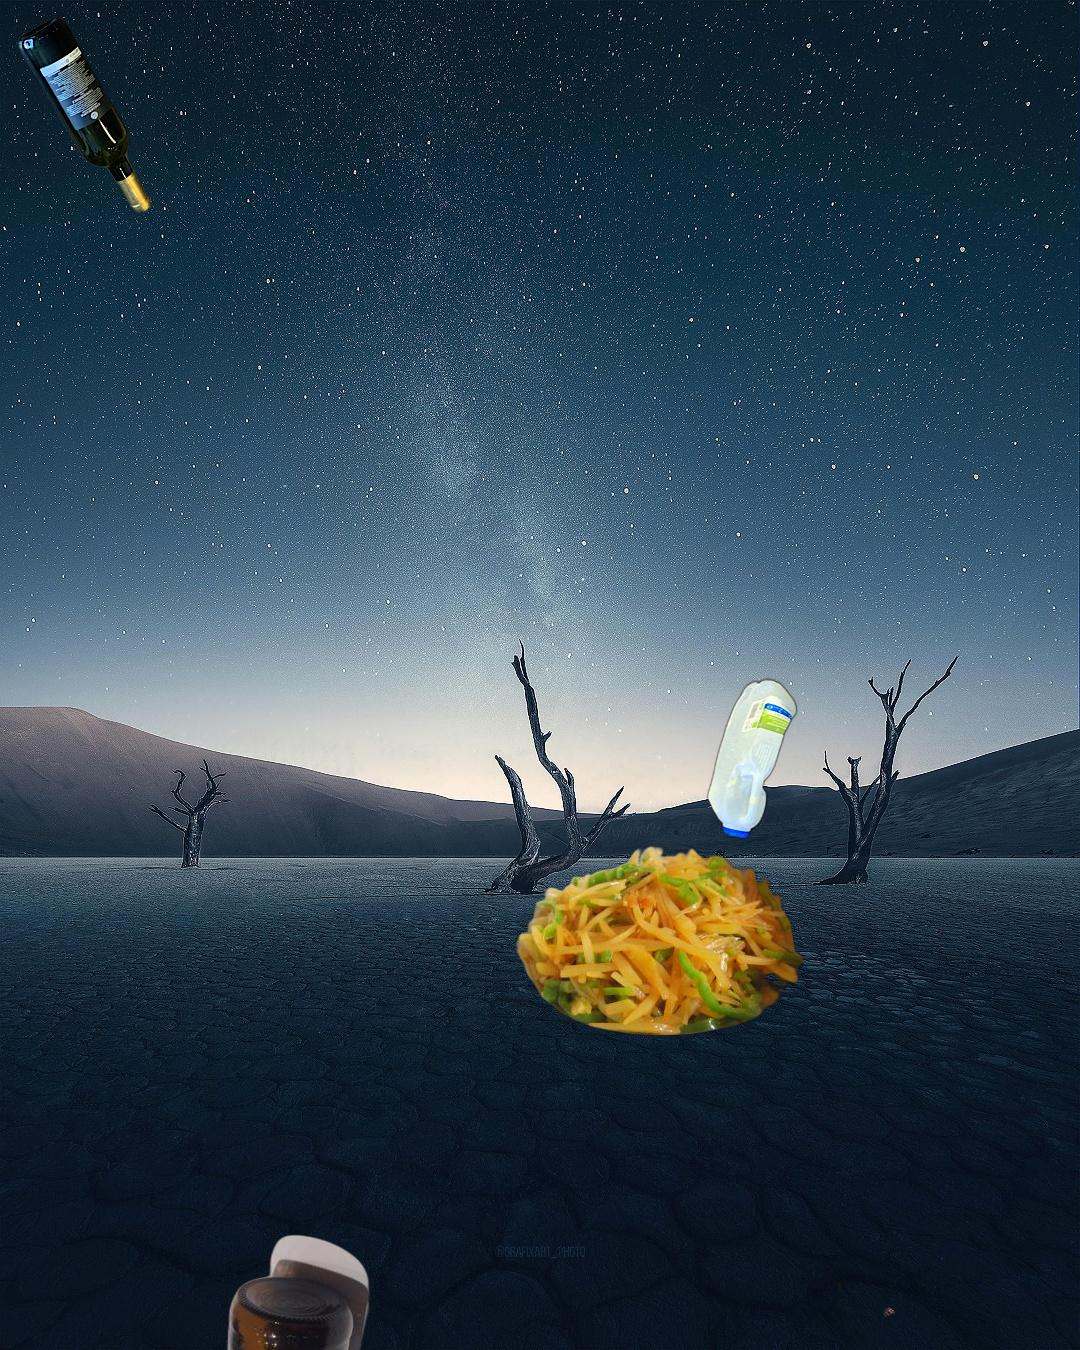biological: (509, 832, 804, 1038), (801, 1282, 1063, 1350)
glass: (13, 11, 156, 223), (216, 1231, 374, 1350)
plastic-bottles: (703, 674, 801, 845)
